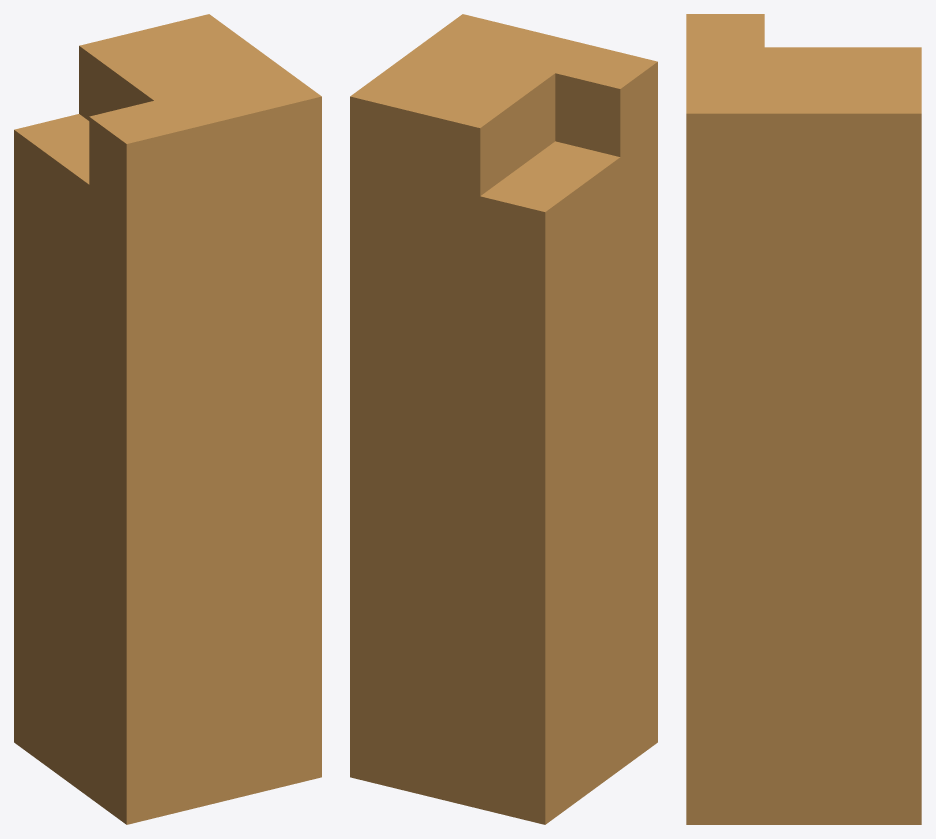
Rendered from lion__leg_fl.glb.
3 renders of one model, left to right at view 1: azimuth 30°, elevation 25°; view 2: azimuth 150°, elevation 25°; view 3: azimuth 270°, elevation 25°, orthographic. The views are drawn at different scales.
Parts seen in each view (by area): view 1: lion__leg_fl; view 2: lion__leg_fl; view 3: lion__leg_fl.
Part boxes in pixels (x1=…): lion__leg_fl: x1=14, y1=14, x2=321, y2=824; lion__leg_fl: x1=350, y1=14, x2=657, y2=824; lion__leg_fl: x1=686, y1=14, x2=921, y2=824.
Bounding box in the file's own units: 0.3 × 1 × 0.3.
Materials: 1 (1 with a texture image).
